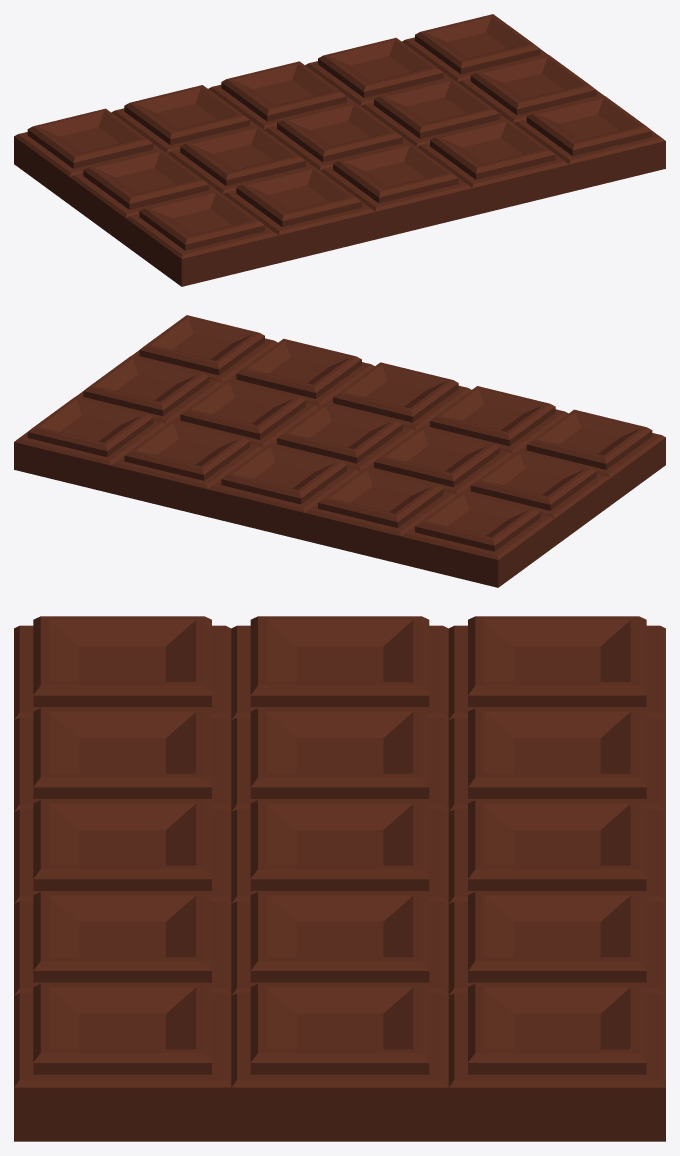
File: Chocolate.fbx
3 renders of one model, top to bottom at view 1: azimuth 30°, elevation 25°; view 2: azimuth 150°, elevation 25°; view 3: azimuth 270°, elevation 25°, orthographic. The views are drawn at different scales.
Visible parts, largest first — view 1: Куб.001; view 2: Куб.001; view 3: Куб.001.
Boxes of the visible parts, box(x1,y1,x2,y2) form: Куб.001: box(14, 14, 665, 286); Куб.001: box(14, 315, 665, 587); Куб.001: box(14, 616, 665, 1141).
Bounding box in the file's own units: 500 × 39.39 × 300.
